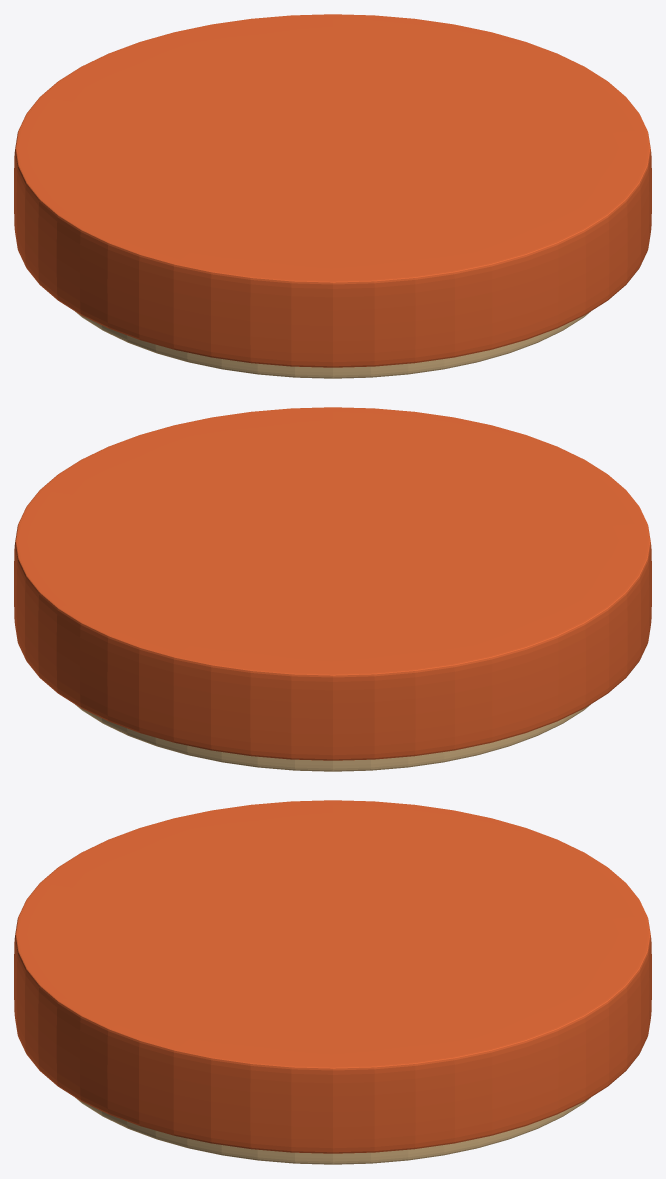
File: sofa_1_1.fbx
3 renders of one model, top to bottom at view 1: azimuth 30°, elevation 25°; view 2: azimuth 150°, elevation 25°; view 3: azimuth 270°, elevation 25°, orthographic.
Visible parts, largest first — view 1: Cylinder; view 2: Cylinder; view 3: Cylinder.
Part boxes in pixels (x1,y1,x2,y2): Cylinder: (14,14,651,378); Cylinder: (14,407,651,771); Cylinder: (14,800,651,1164).
Bounding box in the file's own units: 1337 × 252 × 1337.
